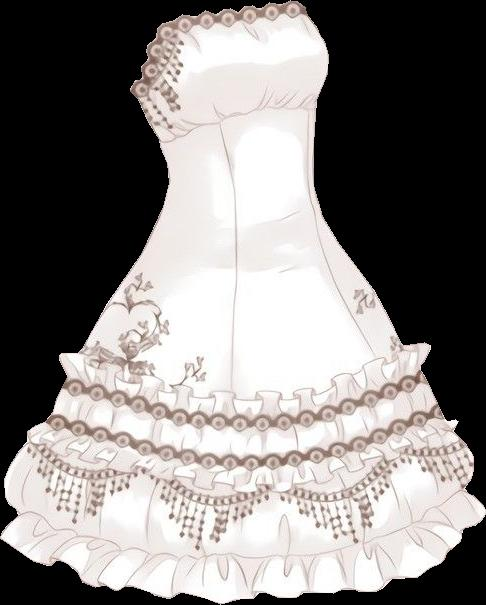Bodice: (130, 1, 328, 226)
Hemline: (0, 508, 485, 604)
Neckline: (129, 0, 303, 95), (160, 106, 314, 147)
Skirt: (0, 214, 485, 603)
